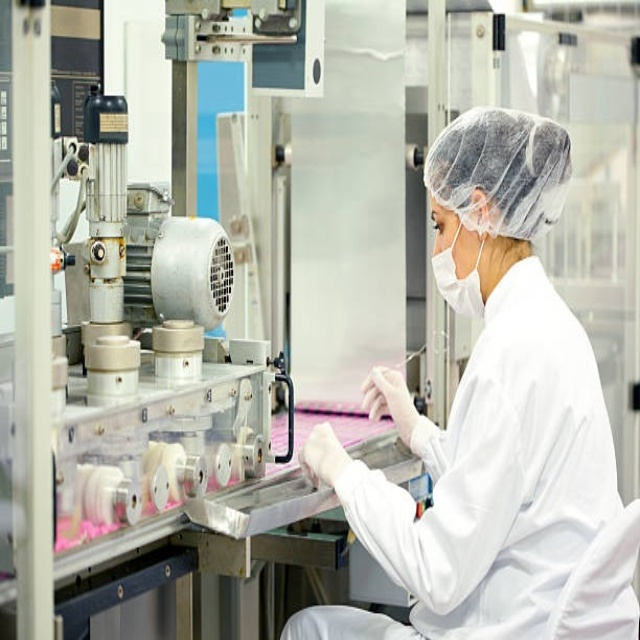Guantes: (297, 421, 350, 491), (360, 365, 401, 423)
Mascara: (431, 215, 488, 320)
Sin_gafas: (428, 195, 453, 242)
